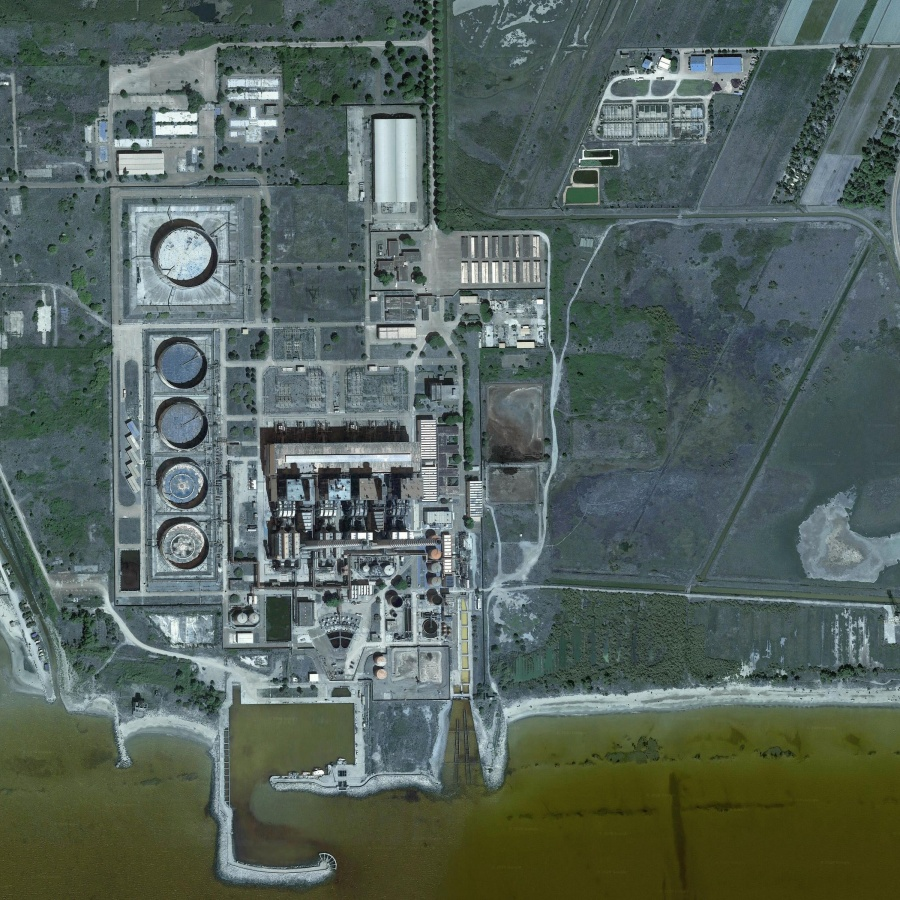PowerPlant: (107, 188, 256, 603)
